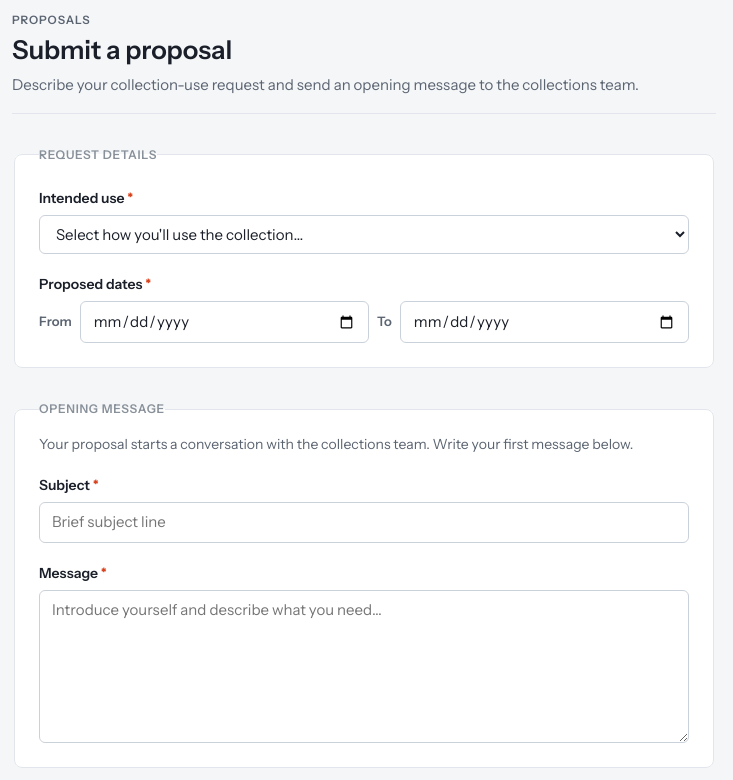
ProposalSubmitPageComponent › shows active required document templates when in-situ visit is selected
Select "In-situ visit" in the dropdown with id "useType" at point(364, 234), box [39,215,689,254]
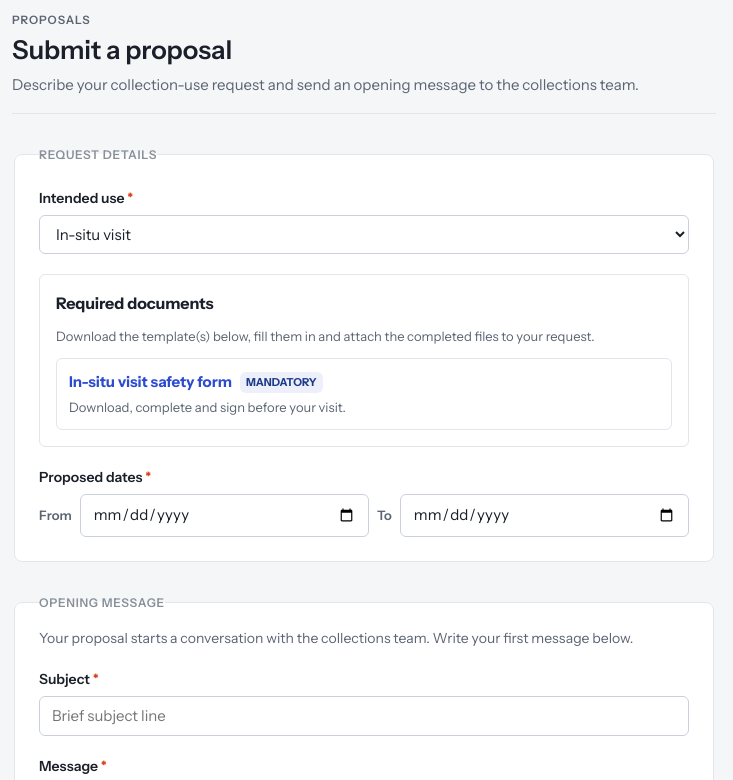
Expected: the text "Required documents" is shown, [56,293,214,313]
Expected: the text "In-situ visit safety form" is shown, [69,372,232,394]
Expected: the text "Mandatory" is shown, [240,372,323,393]
